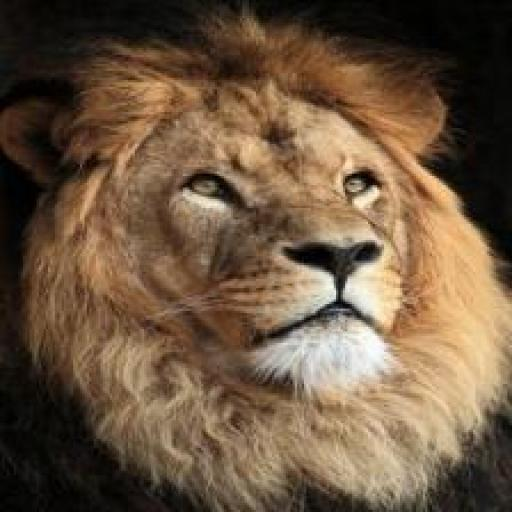lion: (20, 52, 478, 436)
